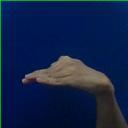hand: (21, 54, 127, 127)
